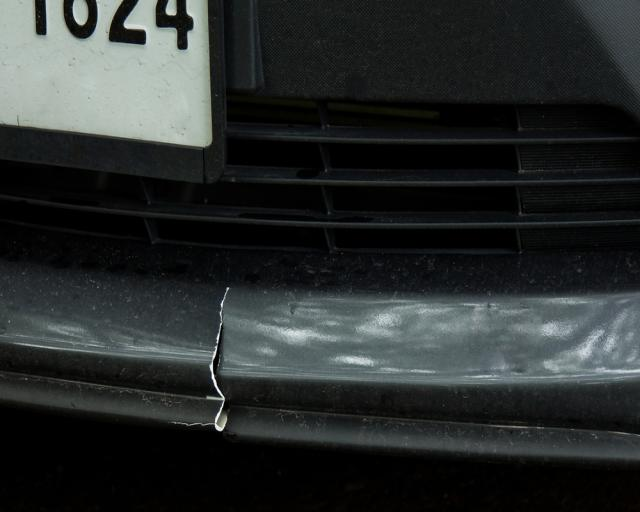crack: (168, 280, 230, 431)
